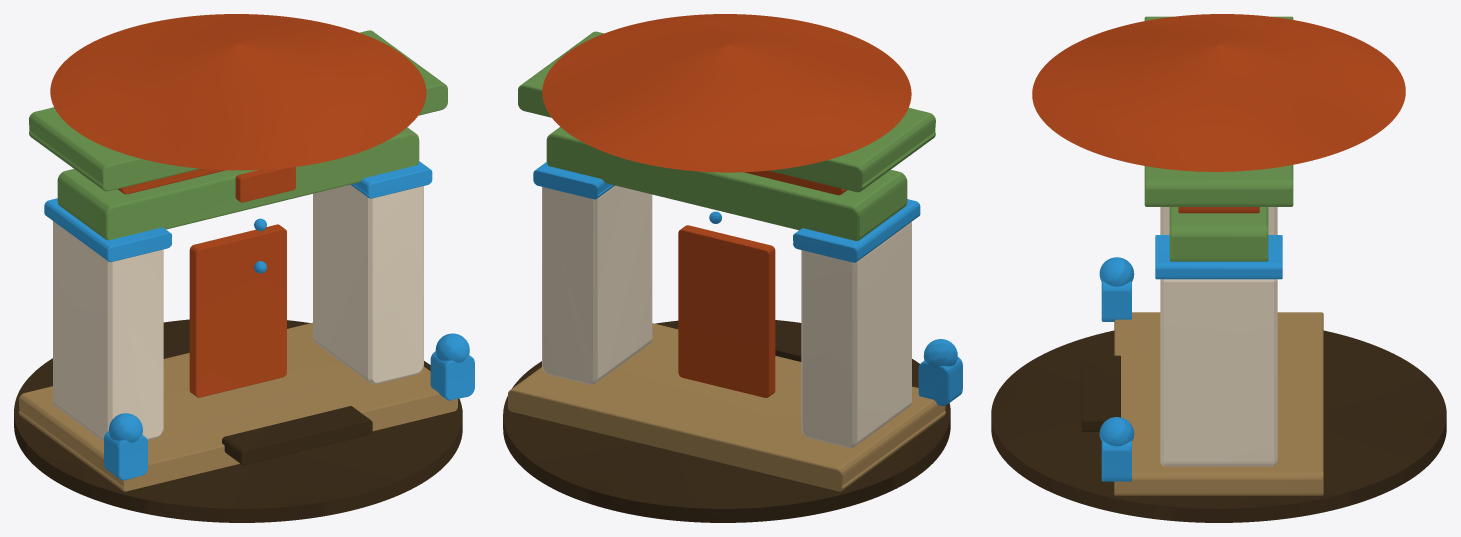
The model's file is 0275_世界古代文明图鉴_万国之门.glb.
3 views of the same model, side by side, from view 1: azimuth 30°, elevation 25°; view 2: azimuth 150°, elevation 25°; view 3: azimuth 270°, elevation 25° (orthographic).
Parts seen in each view (by area): view 1: card_0275; view 2: card_0275; view 3: card_0275.
Boxes of the visible parts, x1,y1,x2,y2 form: card_0275: (14,14,474,522); card_0275: (503,14,962,522); card_0275: (991,14,1446,522).
Bounding box in the file's own units: 1.06 × 1 × 1.07.
